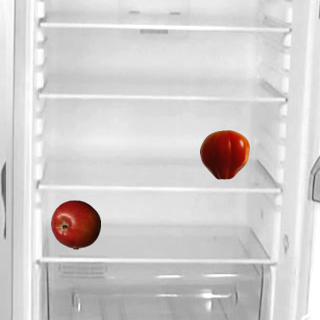Apple Braeburn: (50, 199, 100, 249)
Tomato 1: (199, 129, 249, 179)
